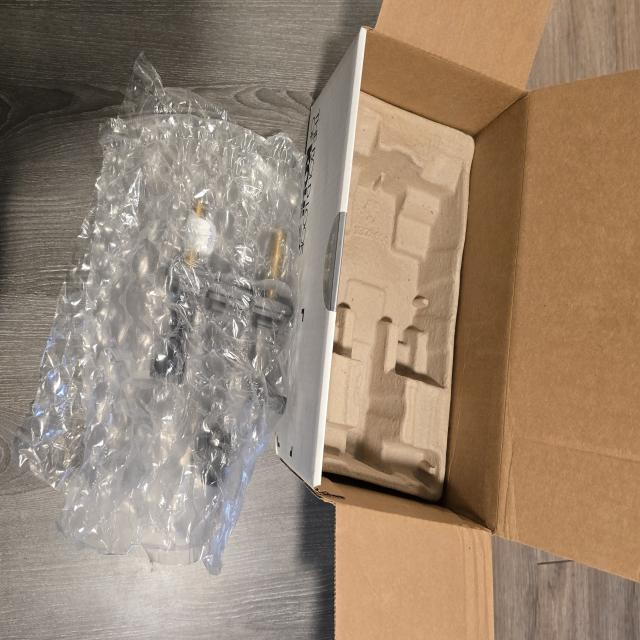9c: (13, 55, 303, 575)
